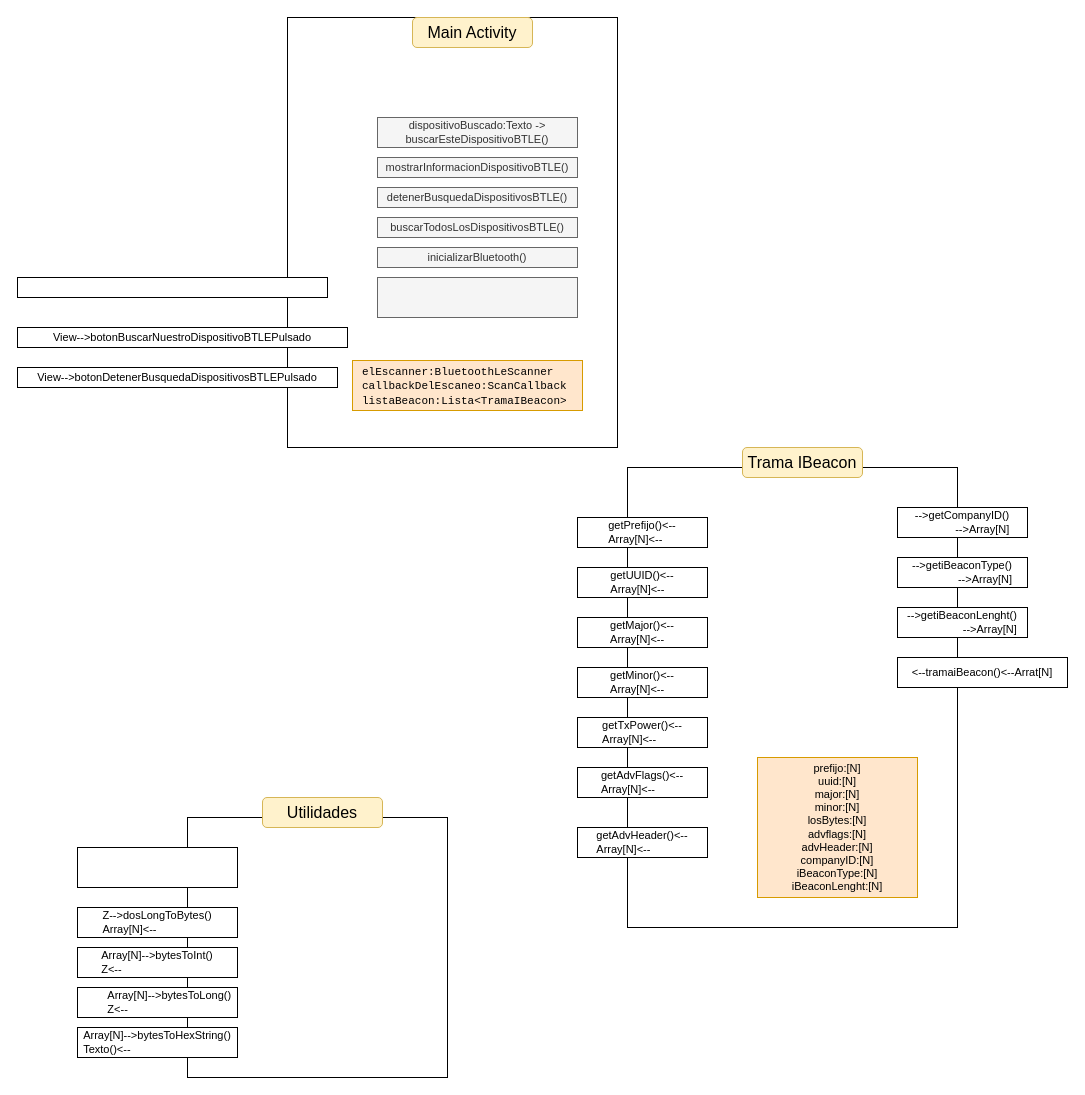
This 1085x1095 diagram has some shape labels left out. The shapes that lost their labels are listed below. From the top down, each one's centre as x and y in pixels, then its label:
the point at 172,287: View-->botonBuscarDispositivosBTLEPulsado
the point at 477,297: resultado:Texto -> mostrarInformacionDispositivosBTLE()
the point at 157,867: Array[N]-->bytesToString() Texto<--
